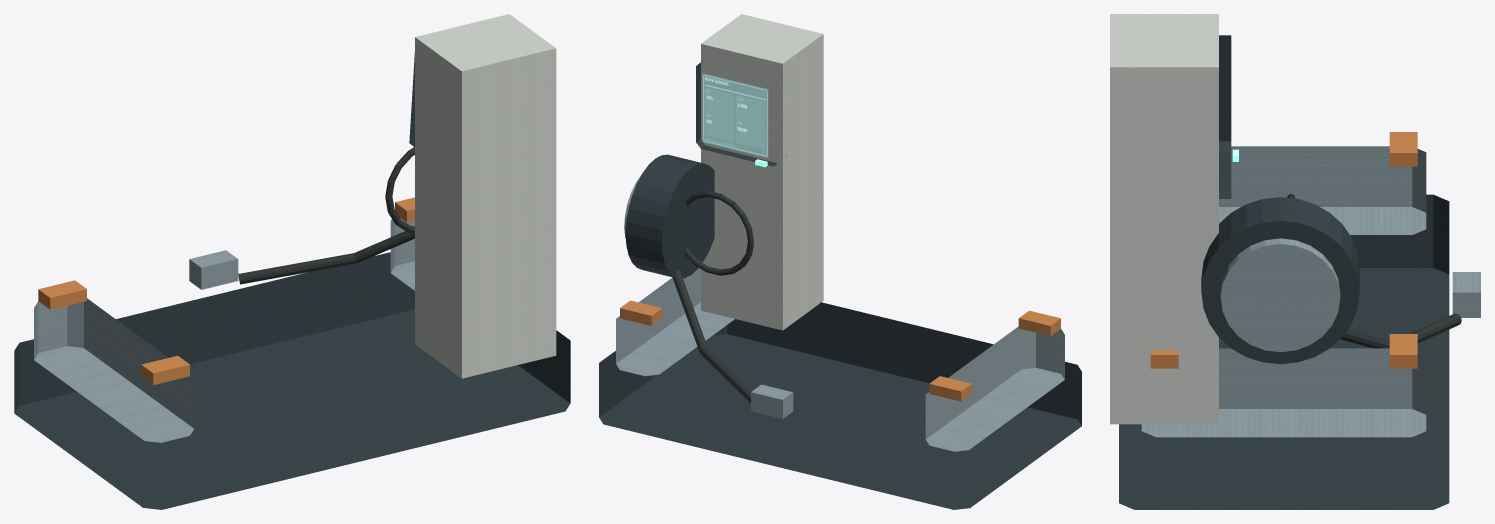
The model's file is rover_charger.glb.
3 views of the same model, side by side, from view 1: azimuth 30°, elevation 25°; view 2: azimuth 150°, elevation 25°; view 3: azimuth 270°, elevation 25° (orthographic). The views are drawn at different scales.
Visible parts, largest first — view 1: Charging_Base__graphite, Charging_Pedestal__shell, Wheel_Guides__alloy, Charging_Cable__rubber, Cradle_Markers__amber, Charge_Connector__alloy; view 2: Charging_Base__graphite, Charging_Pedestal__shell, Wheel_Guides__alloy, Cable_Reel__graphite, Display__ui_charger, Charging_Cable__rubber, Cradle_Markers__amber, Charge_Connector__alloy, Display__graphite; view 3: Charging_Pedestal__shell, Charging_Base__graphite, Wheel_Guides__alloy, Cable_Reel__alloy, Cable_Reel__graphite, Cradle_Markers__amber, Display__graphite, Charge_Connector__alloy, Charging_Cable__rubber.
Part boxes in pixels (<box>): Charging_Base__graphite: <box>14,252,570,509</box>; Charging_Pedestal__shell: <box>415,14,556,378</box>; Wheel_Guides__alloy: <box>34,218,414,442</box>; Charging_Cable__rubber: <box>238,147,414,284</box>; Cradle_Markers__amber: <box>38,197,414,384</box>; Charge_Connector__alloy: <box>189,250,238,289</box>; Charging_Base__graphite: <box>599,302,1081,509</box>; Charging_Pedestal__shell: <box>701,14,823,330</box>; Wheel_Guides__alloy: <box>616,268,1064,451</box>; Cable_Reel__graphite: <box>625,154,714,278</box>; Display__ui_charger: <box>702,73,768,157</box>; Charging_Cable__rubber: <box>672,191,753,403</box>; Cradle_Markers__amber: <box>620,300,1060,401</box>; Charge_Connector__alloy: <box>751,384,793,418</box>; Display__graphite: <box>696,61,786,166</box>; Charging_Pedestal__shell: <box>1110,14,1218,424</box>; Charging_Base__graphite: <box>1119,194,1449,509</box>; Wheel_Guides__alloy: <box>1141,146,1426,437</box>; Cable_Reel__alloy: <box>1220,238,1340,352</box>; Cable_Reel__graphite: <box>1201,197,1359,364</box>; Cradle_Markers__amber: <box>1150,132,1417,368</box>; Display__graphite: <box>1219,35,1231,198</box>; Charge_Connector__alloy: <box>1452,272,1480,317</box>; Charging_Cable__rubber: <box>1287,194,1461,348</box>.
Size of the model in its own units: 1.67 by 1.35 by 1.06.
7 materials, 7 textured.
